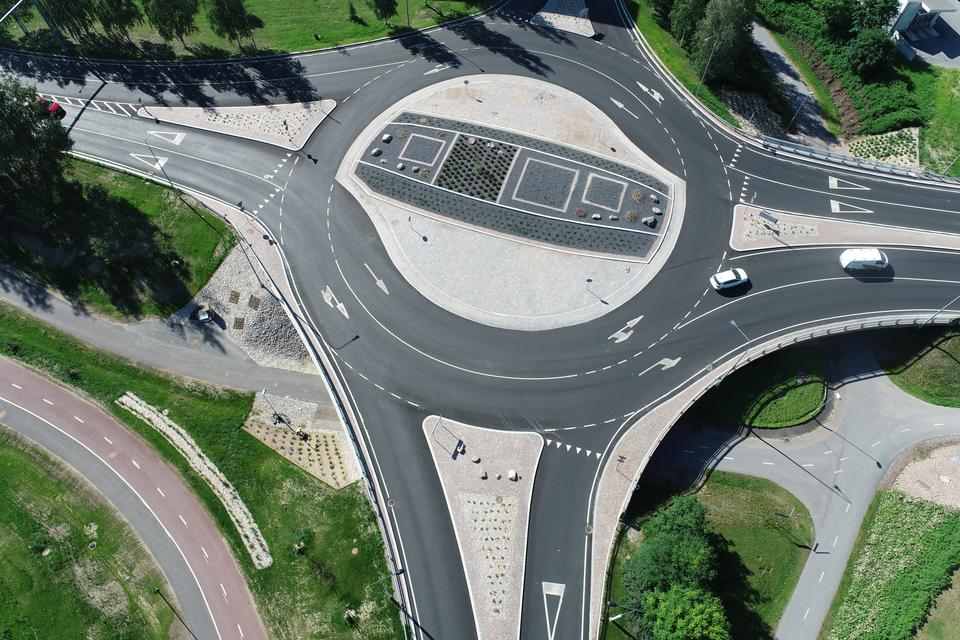roundabout: (252, 0, 791, 539)
